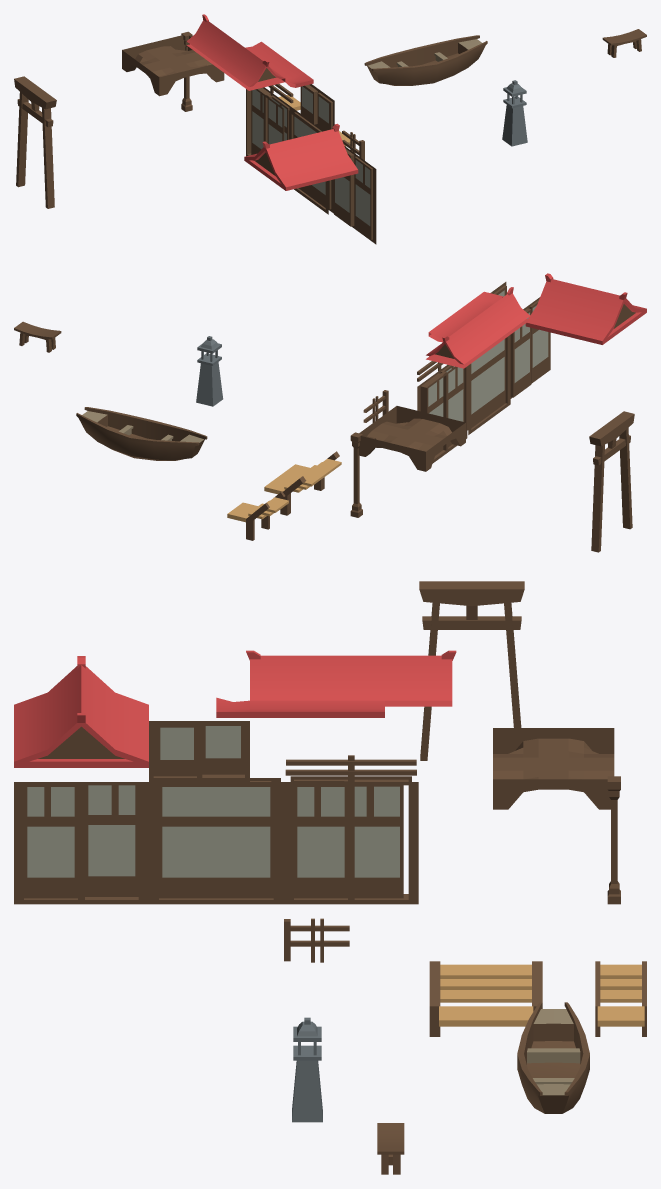
File: Construction.fbx
3 renders of one model, top to bottom at view 1: azimuth 30°, elevation 25°; view 2: azimuth 150°, elevation 25°; view 3: azimuth 270°, elevation 25°, orthographic. The views are drawn at different scales.
Parts seen in each view (by area): view 1: roof.004, boat.002, Roofdeco.001, roof.005, arch.001, Wall.004, House.003, wall.006, lamp, wall.009, RoofSide.004, Door.001 (+2 smaller); view 2: roof.004, boat.002, Roofdeco.001, roof.005, arch.001, wall.006, Wall.004, House.003, Stair.001, lamp, Stair.000, RoofSide.004 (+3 smaller); view 3: wall.006, Wall.004, House.003, roof.004, roof.005, Roofdeco.001, Stair.001, boat.002, wall.009, Door.001, arch.001, Stair.000 (+6 smaller).
Boxes of the visible parts, x1=… form: roof.004: x1=244, y1=123, x2=358, y2=190; boat.002: x1=364, y1=35, x2=487, y2=85; Roofdeco.001: x1=122, y1=35, x2=224, y2=96; roof.005: x1=186, y1=14, x2=284, y2=90; arch.001: x1=14, y1=76, x2=56, y2=208; Wall.004: x1=334, y1=146, x2=376, y2=244; House.003: x1=246, y1=87, x2=292, y2=156; wall.006: x1=288, y1=108, x2=333, y2=214; lamp: x1=502, y1=80, x2=527, y2=146; wall.009: x1=300, y1=84, x2=334, y2=130; RoofSide.004: x1=245, y1=41, x2=302, y2=82; Door.001: x1=251, y1=89, x2=272, y2=154; roof.004: x1=525, y1=273, x2=646, y2=344; boat.002: x1=76, y1=407, x2=207, y2=460; Roofdeco.001: x1=358, y1=406, x2=465, y2=471; roof.005: x1=426, y1=287, x2=530, y2=368; arch.001: x1=589, y1=411, x2=634, y2=552; wall.006: x1=467, y1=335, x2=510, y2=434; Wall.004: x1=510, y1=297, x2=550, y2=398; House.003: x1=417, y1=364, x2=467, y2=463; Stair.001: x1=264, y1=451, x2=341, y2=515; lamp: x1=196, y1=336, x2=223, y2=406; Stair.000: x1=227, y1=491, x2=288, y2=540; RoofSide.004: x1=428, y1=300, x2=489, y2=342; wall.006: x1=149, y1=778, x2=283, y2=904; Wall.004: x1=14, y1=782, x2=148, y2=904; House.003: x1=284, y1=776, x2=418, y2=904; roof.004: x1=14, y1=656, x2=148, y2=767; roof.005: x1=246, y1=650, x2=456, y2=706; Roofdeco.001: x1=493, y1=728, x2=614, y2=809; Stair.001: x1=429, y1=961, x2=542, y2=1036; boat.002: x1=517, y1=1002, x2=589, y2=1113; wall.009: x1=149, y1=721, x2=249, y2=781; Door.001: x1=344, y1=781, x2=403, y2=898; arch.001: x1=419, y1=581, x2=524, y2=760; Stair.000: x1=595, y1=961, x2=646, y2=1036.
Bounding box in the file's own units: 1625 × 467 × 938.
